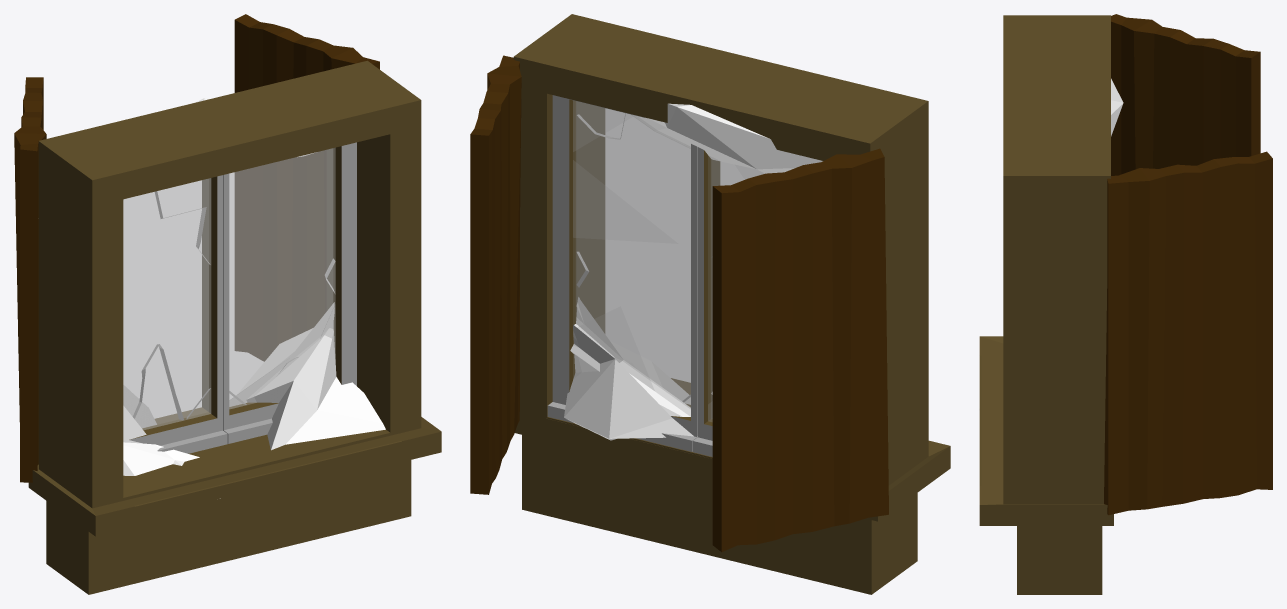
The model's file is fenetre.fbx.
3 renders of one model, left to right at view 1: azimuth 30°, elevation 25°; view 2: azimuth 150°, elevation 25°; view 3: azimuth 270°, elevation 25°, orthographic. The views are drawn at different scales.
Parts seen in each view (by area): view 1: fenetre, vitre neige, vitre propre, vitre casse; view 2: fenetre, vitre neige, vitre casse; view 3: fenetre, vitre neige.
Part boxes in pixels (<box>): fenetre: <box>14,14,441,594</box>; vitre neige: <box>123,98,334,429</box>; vitre propre: <box>123,148,334,429</box>; vitre casse: <box>123,152,385,498</box>; fenetre: <box>470,14,950,594</box>; vitre neige: <box>570,100,822,439</box>; vitre casse: <box>564,113,712,440</box>; fenetre: <box>979,14,1272,594</box>; vitre neige: <box>1111,78,1123,136</box>.
Size of the model in its own units: 803 by 902 by 571.
